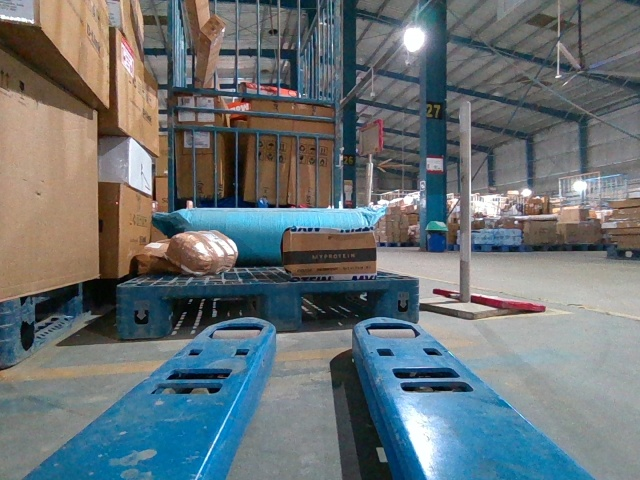block: (117, 286, 174, 340), (255, 283, 302, 332), (379, 281, 420, 327)
front: (119, 280, 420, 339)
hole pallet: (166, 292, 264, 336), (295, 284, 389, 328)
